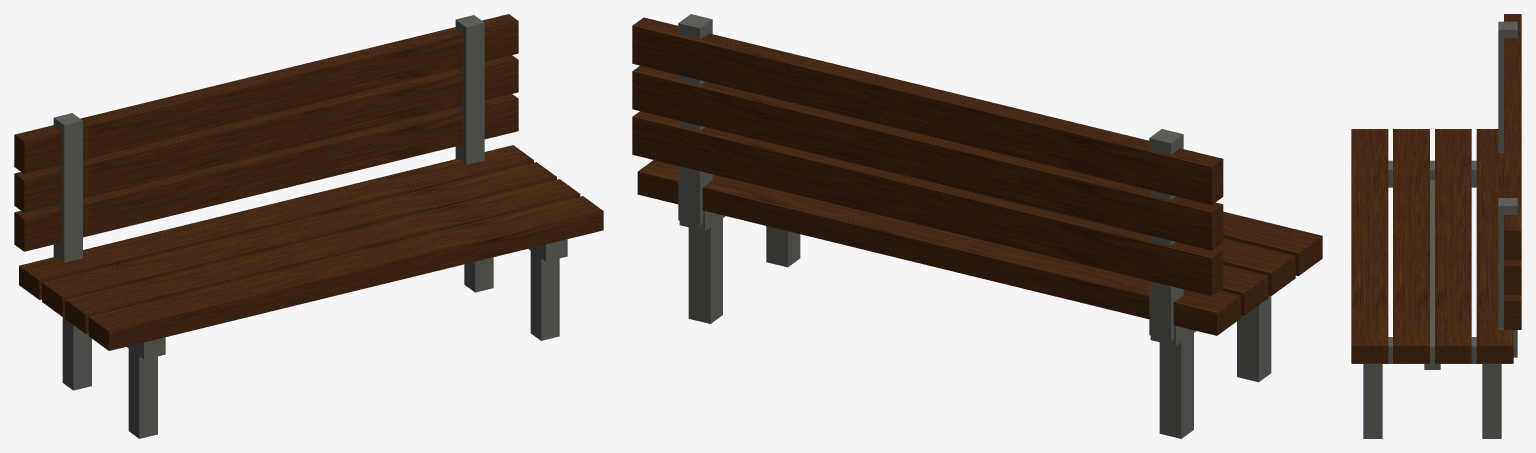
File: yard-bench.glb
3 renders of one model, left to right at view 1: azimuth 30°, elevation 25°; view 2: azimuth 150°, elevation 25°; view 3: azimuth 270°, elevation 25°, orthographic. The views are drawn at different scales.
Visible parts, largest first — view 1: 靠背板 (×3), 坐板 (×4), 金属椅腿 (×4), 靠背支架 (×2), 座面横梁 (×2); view 2: 靠背板 (×3), 坐板 (×4), 金属椅腿 (×4), 靠背支架 (×2); view 3: 坐板 (×4), 靠背板 (×3), 金属椅腿 (×2), 靠背支架 (×2), 座面横梁 (×2), 座面纵梁.
Part boxes in pixels (box(x1,y1,x2,y2)): 靠背板 (×3): box(14, 14, 518, 251); 坐板 (×4): box(19, 145, 603, 350); 金属椅腿 (×4): box(62, 251, 559, 438); 靠背支架 (×2): box(53, 15, 484, 262); 座面横梁 (×2): box(126, 239, 567, 359); 靠背板 (×3): box(632, 17, 1223, 295); 坐板 (×4): box(637, 160, 1322, 335); 金属椅腿 (×4): box(688, 218, 1271, 438); 靠背支架 (×2): box(678, 14, 1183, 340); 坐板 (×4): box(1351, 129, 1513, 363); 靠背板 (×3): box(1504, 14, 1521, 329); 金属椅腿 (×2): box(1363, 364, 1501, 438); 靠背支架 (×2): box(1498, 21, 1517, 357); 座面横梁 (×2): box(1352, 160, 1512, 363); 座面纵梁: box(1424, 180, 1440, 369).
Bounding box in the file's own units: 3.2 × 1.6 × 1.06.
2 materials, 1 textured.
